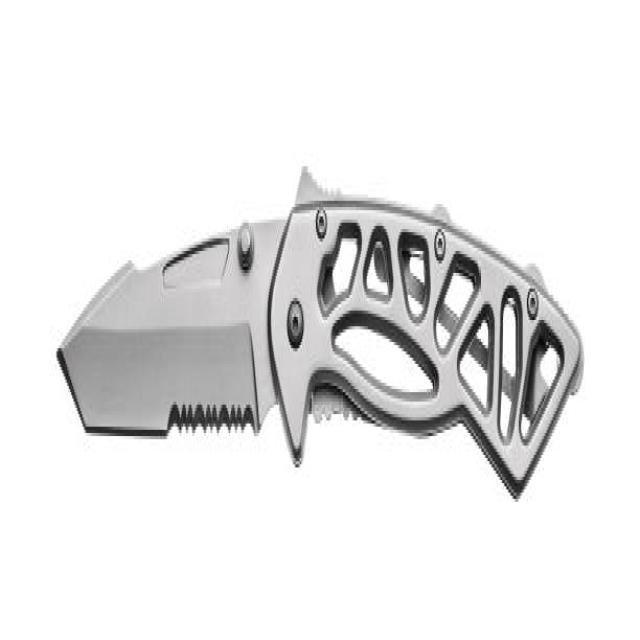knife: (45, 160, 591, 542)
